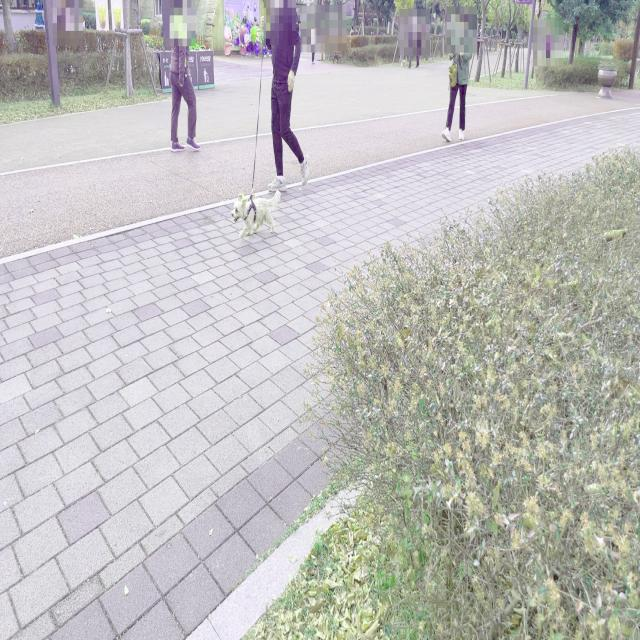Leashed_Dog: (231, 38, 285, 240)
